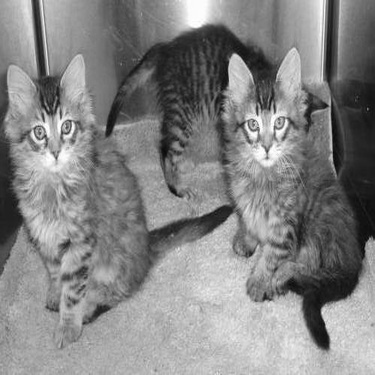cat: (5, 53, 238, 351), (224, 48, 363, 352), (101, 22, 328, 202)
